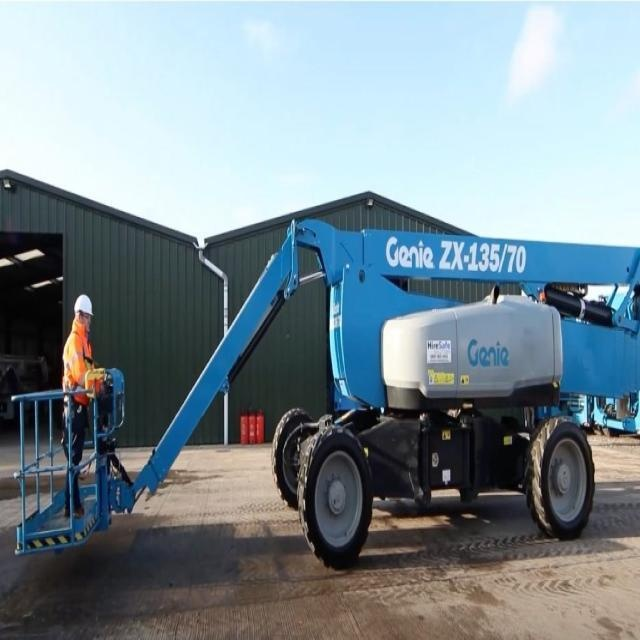Arnes_seguridad: (63, 324, 97, 421)
